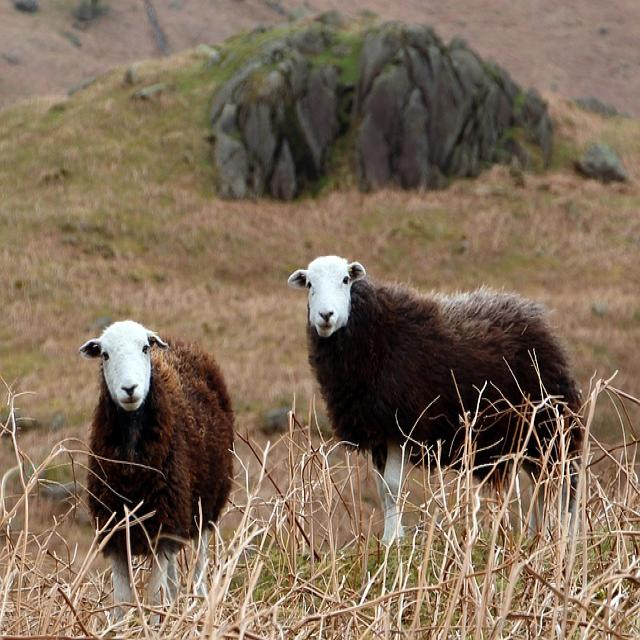goat: (289, 255, 581, 541), (80, 320, 234, 604)
